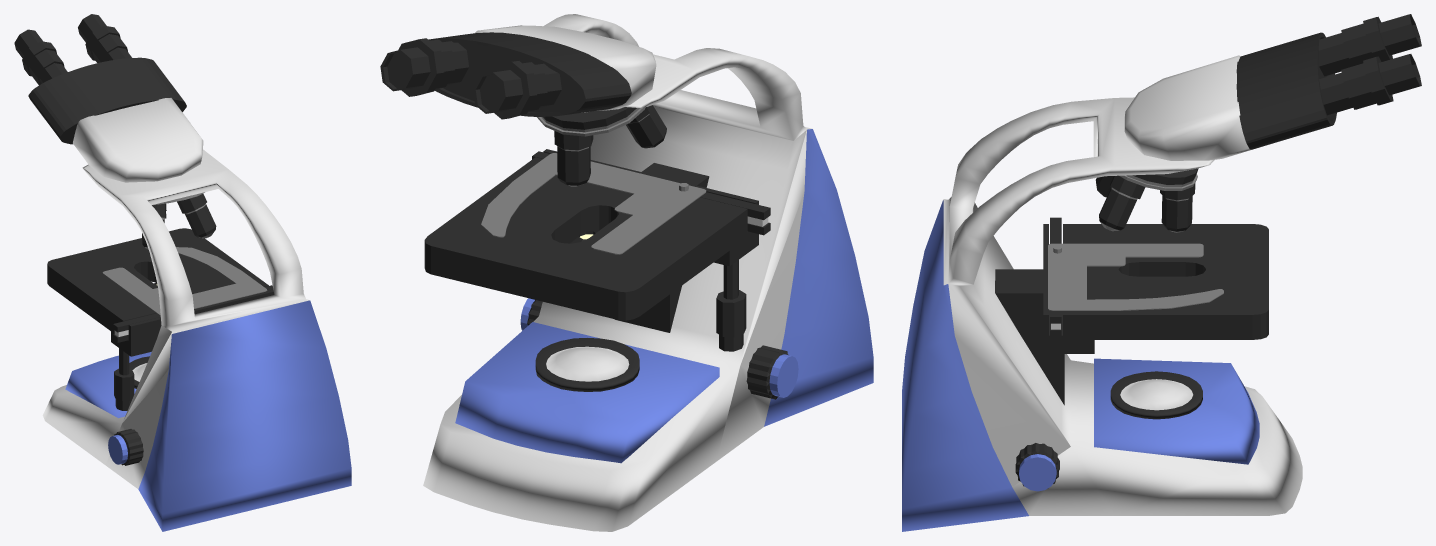
File: Microscopio2.fbx
3 views of the same model, side by side, from view 1: azimuth 30°, elevation 25°; view 2: azimuth 150°, elevation 25°; view 3: azimuth 270°, elevation 25° (orthographic). The views are drawn at different scales.
Parts seen in each view (by area): view 1: Cube.005, Cube, Cube.001, Cube.003, Cube.004, Cube.002, Plane, Circle, Cylinder; view 2: Cube, Cube.005, Cube.001, Cube.004, Cube.002, Plane, Circle, Cube.003, Cylinder; view 3: Cube, Cube.005, Cube.001, Cube.003, Cube.004, Cube.002, Plane, Circle, Cylinder.001.
Boxes of the visible parts, x1,y1,x2,y2 form: Cube.005: (65, 300, 351, 531); Cube: (42, 149, 309, 488); Cube.001: (47, 228, 274, 410); Cube.003: (73, 98, 203, 182); Cube.004: (28, 57, 186, 144); Cube.002: (14, 14, 131, 85); Plane: (102, 247, 267, 315); Circle: (142, 192, 216, 249); Cylinder: (108, 429, 143, 465); Cube: (423, 14, 812, 531); Cube.005: (455, 129, 873, 463); Cube.001: (424, 149, 770, 351); Cube.004: (428, 32, 631, 116); Cube.002: (380, 38, 561, 119); Plane: (481, 153, 706, 254); Circle: (537, 105, 666, 186); Cube.003: (475, 25, 656, 110); Cylinder: (746, 345, 798, 399); Cube: (943, 97, 1302, 515); Cube.005: (902, 200, 1259, 531); Cube.001: (995, 217, 1268, 405); Cube.003: (1124, 55, 1251, 160); Cube.004: (1236, 32, 1336, 149); Cube.002: (1318, 14, 1421, 115); Plane: (1048, 243, 1223, 310); Circle: (1095, 168, 1198, 232); Cylinder.001: (1015, 443, 1059, 491).
Size of the model in its own units: 197 by 341 by 366.
